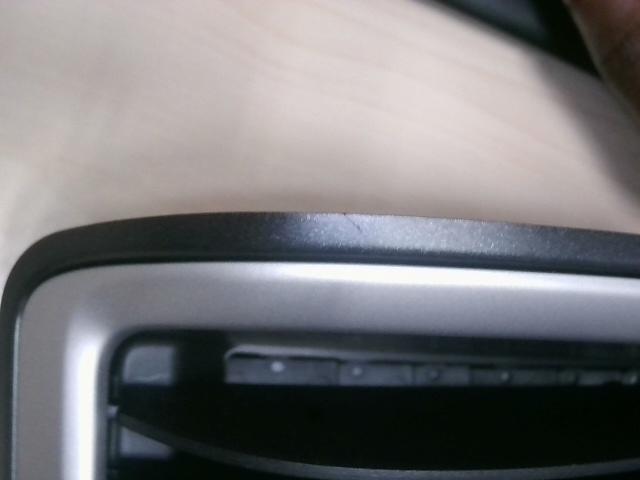NG: (335, 208, 371, 240)
